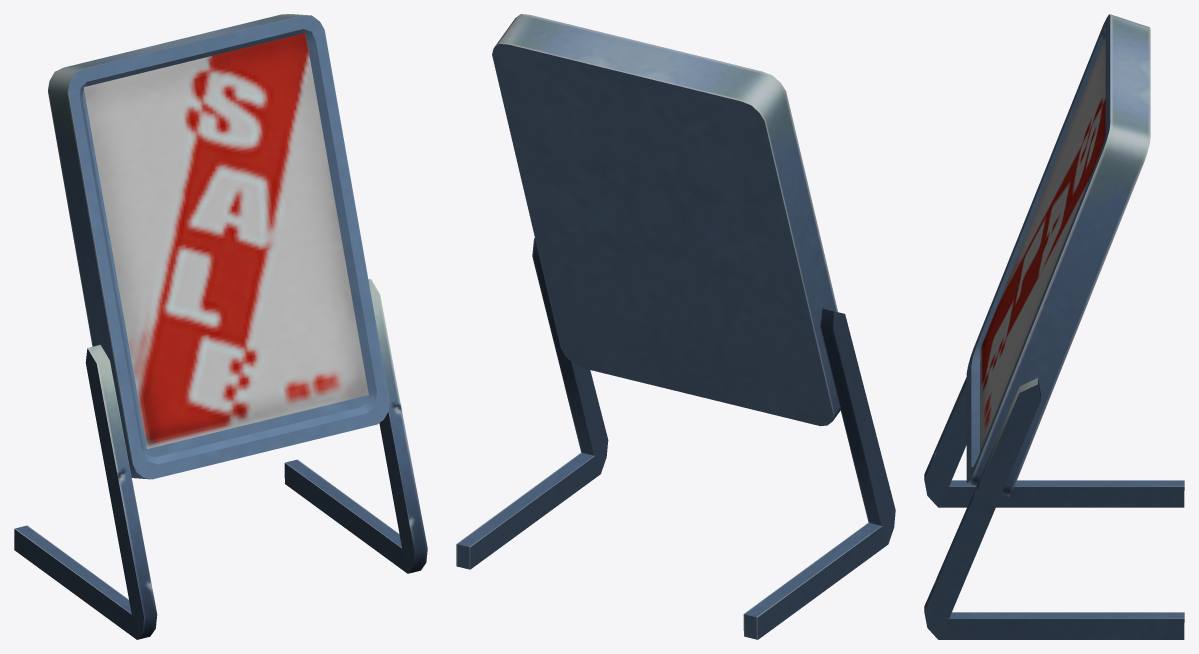
The model's file is PK_model_billboard04.FBX.
3 views of the same model, side by side, from view 1: azimuth 30°, elevation 25°; view 2: azimuth 150°, elevation 25°; view 3: azimuth 270°, elevation 25° (orthographic). The views are drawn at different scales.
Parts seen in each view (by area): view 1: PK_model_billboard04; view 2: PK_model_billboard04; view 3: PK_model_billboard04.
Part boxes in pixels (<box>): PK_model_billboard04: <box>14,14,427,639</box>; PK_model_billboard04: <box>456,14,895,639</box>; PK_model_billboard04: <box>924,14,1184,639</box>.
Bounding box in the file's own units: 68.5 × 115 × 54.31.
